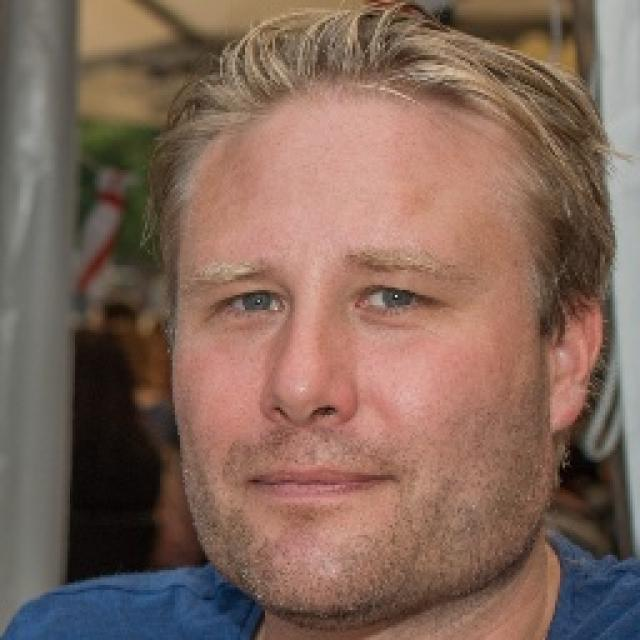earlobe: (545, 284, 605, 432)
